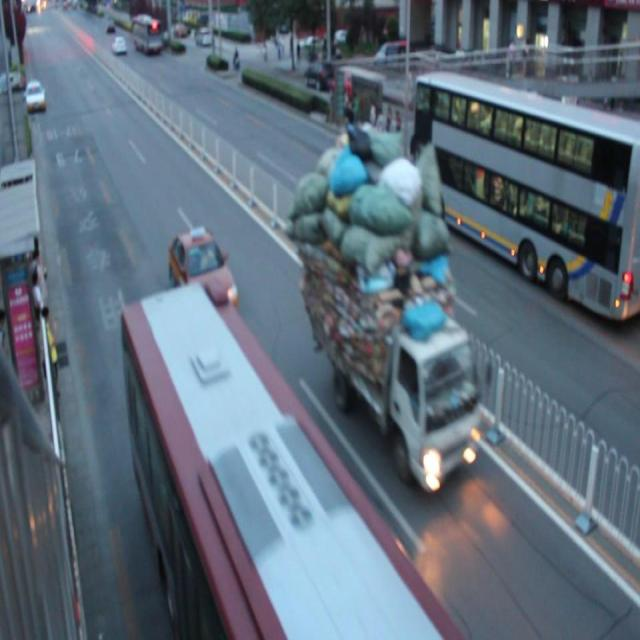bus: (314, 120, 477, 484)
car: (168, 226, 239, 313)
van: (119, 289, 456, 640), (412, 71, 640, 320)
